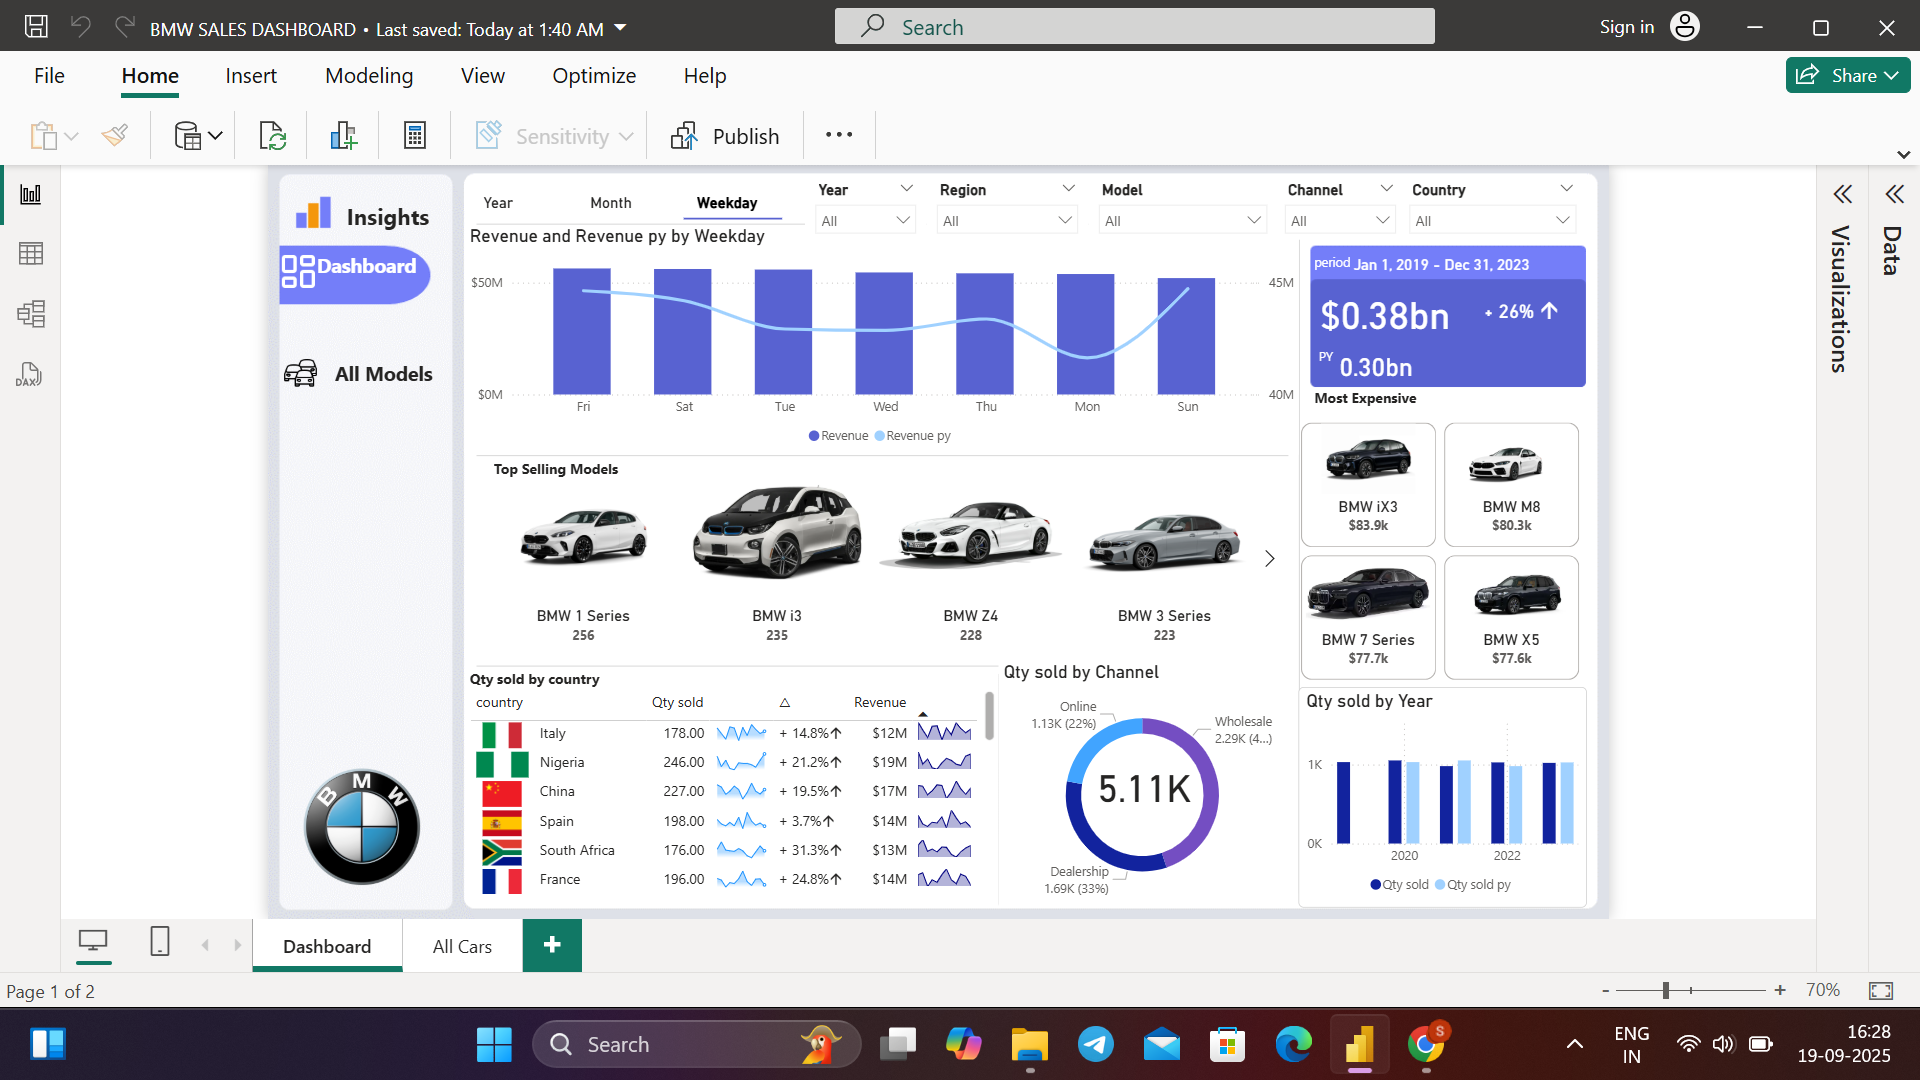

The page's visual inventory and layout, read from the dashboard file:
{"tool":"powerbi","page":{"name":"Dashboard","canvas":[1280,720],"ordinal":0},"visuals":[{"type":"lineClusteredColumnComboChart","fields":{"Category":["Calendar.Weekday"],"Y":["allMeasures.Revenue"],"Y2":["allMeasures.Revenue py"]},"box":[187.7,57.3,796.9,219.5],"z":0},{"type":"actionButton","box":[8.6,166.2,161.9,58.7],"z":0},{"type":"advancedSlicerVisual","fields":{"Values":["periodSlicer.periodSlicer"]},"box":[187.7,9.5,308.6,47.7],"z":1000},{"type":"card","fields":{"Values":["allMeasures.Revenue"]},"box":[997.8,115.3,136.1,51],"z":2000},{"type":"card","fields":{"Values":["allMeasures.Revenue py"]},"box":[997.8,166.3,119.1,51],"z":3000},{"type":"textbox","box":[994,77.5,98.3,64.3],"z":4000},{"type":"card","fields":{"Values":["allMeasures.revenue variance % arrow"]},"box":[1133.9,115.3,119.1,51],"z":5000},{"type":"card","fields":{"Values":["allMeasures.Selected Period"]},"box":[997.8,77.5,243.8,37.8],"z":6000},{"type":"textbox","box":[997.8,168.2,68,49.1],"z":7000},{"type":"advancedSlicerVisual","fields":{"Values":["dirModel.Model"]},"box":[187.1,275.9,784.3,198.4],"z":8000},{"type":"textbox","box":[210,275.2,151.1,33.4],"z":9000},{"type":"actionButton","box":[1165.1,13.5,94.4,38.5],"z":10000},{"type":"advancedSlicerVisual","fields":{"Values":["dirModel.Model"]},"box":[961.5,240.8,318,257.4],"z":10000},{"type":"textbox","box":[993.9,207.3,128.9,34.3],"z":11000},{"type":"clusteredColumnChart","title":"Qty sold by Year","fields":{"Y":["allMeasures.Qty sold","allMeasures.Qty sold py"],"Category":["Calendar.Year"]},"box":[984.2,498.2,275.6,210.5],"z":12000},{"type":"donutChart","fields":{"Y":["allMeasures.Qty sold"],"Category":["dirChannel.Channel"]},"box":[698,473.9,274.1,234.7],"z":13000},{"type":"card","fields":{"Values":["allMeasures.Qty sold"]},"box":[782.8,563.3,104.5,57.5],"z":14000},{"type":"tableEx","fields":{"Values":["dirCountry.Flag","dirCountry.Country","allMeasures.Qty sold","allMeasures.Opaque Area Sparkline (no one value) bright","allMeasures.qty sold variance % arrow","allMeasures.Revenue","allMeasures.Area Sparkline"]},"box":[187.7,497.8,510.8,204],"z":15000},{"type":"textbox","box":[187.7,474.9,155,35.9],"z":16000},{"type":"textbox","box":[41.7,76.7,116.7,65],"z":17000},{"type":"image","box":[0,76.7,58.3,48.3],"z":18000},{"type":"image","box":[10,166.7,41.7,65],"z":19000},{"type":"textbox","box":[58.3,180,128.3,36.7],"z":20000},{"type":"image","box":[28.6,562.9,121.8,137.5],"z":22000},{"type":"image","box":[15,20,58.3,46.7],"z":23000},{"type":"textbox","box":[70,28.3,101.7,53.3],"z":24000},{"type":"slicer","fields":{"Values":["Calendar.Year"]},"box":[512.8,10,116,61.6],"z":25000},{"type":"slicer","fields":{"Values":["dirCountry.Region"]},"box":[628.8,10,154.7,61.6],"z":26000},{"type":"slicer","fields":{"Values":["dirModel.Model"]},"box":[783.5,10,180.5,61.6],"z":27000},{"type":"slicer","fields":{"Values":["dirChannel.Channel"]},"box":[961.1,10,126.1,61.6],"z":28000},{"type":"slicer","fields":{"Values":["dirCountry.Country"]},"box":[1080,10,179,61.6],"z":29000}]}

Visuals, with their boxes on the page's 1280x720 design canvas (x1, y1, x2, y2). These are canvas units, not pixel positions in the 1920x1080 screenshot, which may show the page scaled, cropped or inside an application window:
lineClusteredColumnComboChart - Calendar.Weekday x allMeasures.Revenue: bbox=(188, 57, 985, 277)
actionButton: bbox=(9, 166, 170, 225)
advancedSlicerVisual - periodSlicer.periodSlicer: bbox=(188, 10, 496, 57)
card - allMeasures.Revenue: bbox=(998, 115, 1134, 166)
card - allMeasures.Revenue py: bbox=(998, 166, 1117, 217)
textbox: bbox=(994, 78, 1092, 142)
card - allMeasures.revenue variance % arrow: bbox=(1134, 115, 1253, 166)
card - allMeasures.Selected Period: bbox=(998, 78, 1242, 115)
textbox: bbox=(998, 168, 1066, 217)
advancedSlicerVisual - dirModel.Model: bbox=(187, 276, 971, 474)
textbox: bbox=(210, 275, 361, 309)
actionButton: bbox=(1165, 14, 1260, 52)
advancedSlicerVisual - dirModel.Model: bbox=(962, 241, 1280, 498)
textbox: bbox=(994, 207, 1123, 242)
"Qty sold by Year" clusteredColumnChart: bbox=(984, 498, 1260, 709)
donutChart - allMeasures.Qty sold x dirChannel.Channel: bbox=(698, 474, 972, 709)
card - allMeasures.Qty sold: bbox=(783, 563, 887, 621)
tableEx - dirCountry.Flag x dirCountry.Country: bbox=(188, 498, 698, 702)
textbox: bbox=(188, 475, 343, 511)
textbox: bbox=(42, 77, 158, 142)
image: bbox=(0, 77, 58, 125)
image: bbox=(10, 167, 52, 232)
textbox: bbox=(58, 180, 187, 217)
image: bbox=(29, 563, 150, 700)
image: bbox=(15, 20, 73, 67)
textbox: bbox=(70, 28, 172, 82)
slicer - Calendar.Year: bbox=(513, 10, 629, 72)
slicer - dirCountry.Region: bbox=(629, 10, 784, 72)
slicer - dirModel.Model: bbox=(784, 10, 964, 72)
slicer - dirChannel.Channel: bbox=(961, 10, 1087, 72)
slicer - dirCountry.Country: bbox=(1080, 10, 1259, 72)
